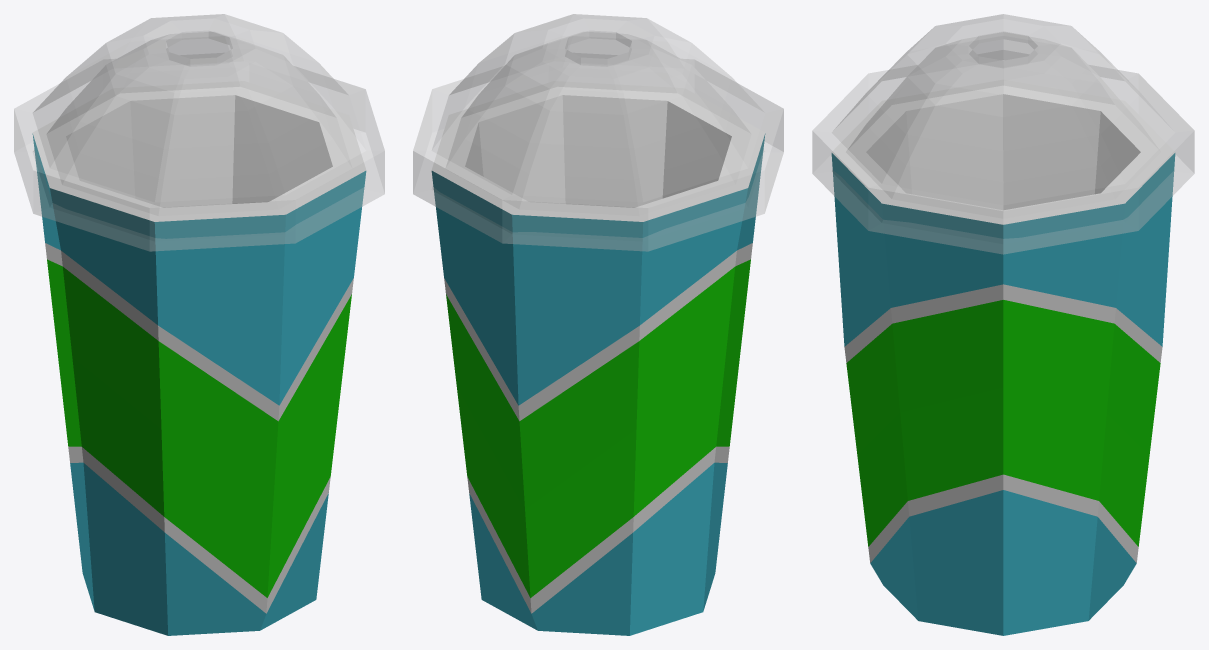
The model's file is Slushee Cup.fbx.
3 views of the same model, side by side, from view 1: azimuth 30°, elevation 25°; view 2: azimuth 150°, elevation 25°; view 3: azimuth 270°, elevation 25° (orthographic).
Visible parts, largest first — view 1: Slushee Cup, Slushee Cup Lid; view 2: Slushee Cup, Slushee Cup Lid; view 3: Slushee Cup, Slushee Cup Lid.
Part boxes in pixels (x1,y1,x2,y2): Slushee Cup: (32,81,366,635); Slushee Cup Lid: (14,14,384,251); Slushee Cup: (431,81,765,635); Slushee Cup Lid: (413,14,783,251); Slushee Cup: (831,80,1175,635); Slushee Cup Lid: (812,14,1194,254).
Size of the model in its own units: 80 by 125 by 80.
